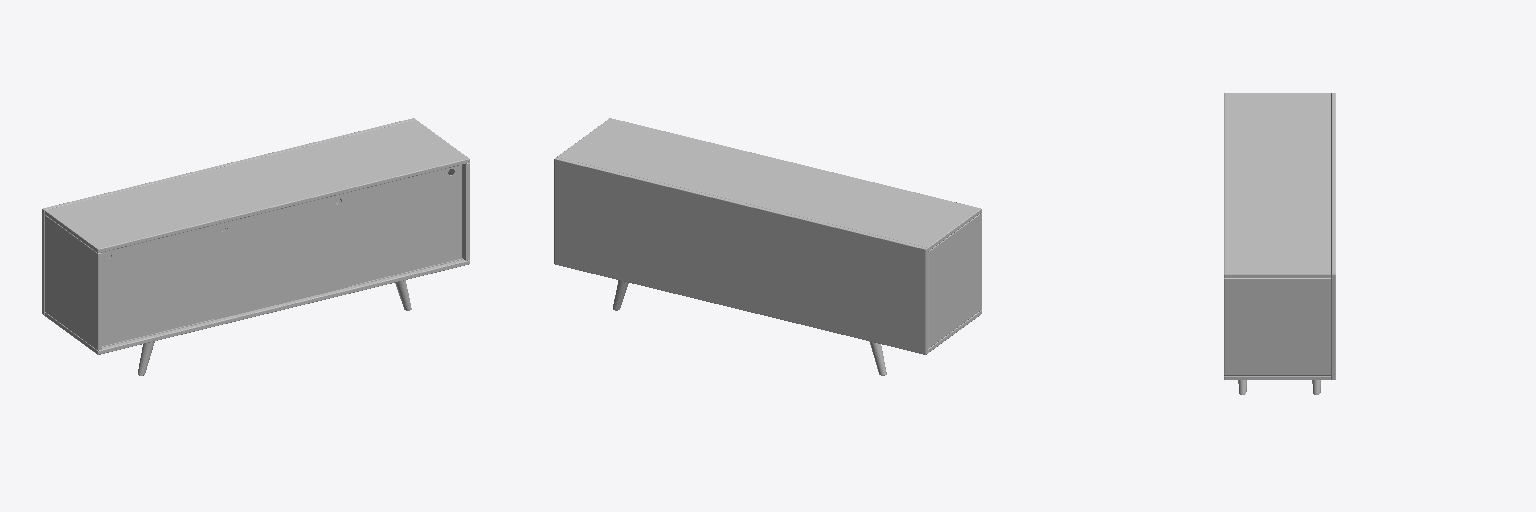
File: desk.obj
The picture shows the model from 3 angles: view 1: azimuth 30°, elevation 25°; view 2: azimuth 150°, elevation 25°; view 3: azimuth 270°, elevation 25°; orthographic projection.
Parts seen in each view (by area): view 1: Sideboard; view 2: Sideboard; view 3: Sideboard.
Part boxes in pixels (x1,y1,x2,y2): Sideboard: (42, 118, 469, 375); Sideboard: (554, 118, 981, 375); Sideboard: (1224, 93, 1335, 394).
Size of the model in its own units: 4.85 by 1.8 by 1.26.